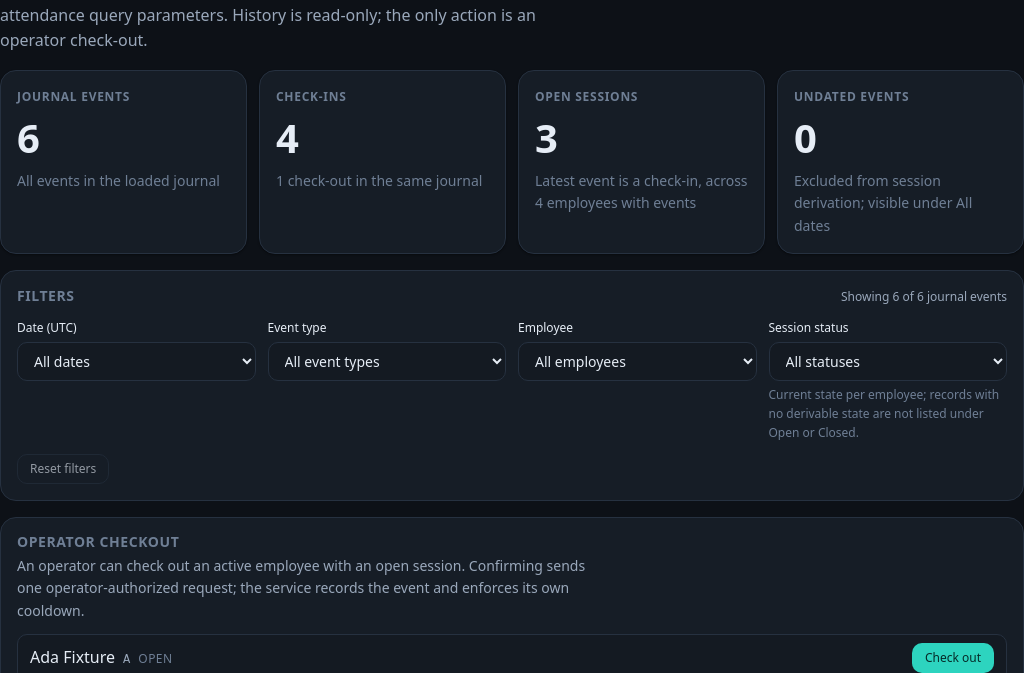
checkout confirmation › confirm sends exactly one bodyless POST without a body content type
The width and height of the screenshot is (1024, 673).
Click the button with aria-label "Check out Ada Fixture".
click(953, 658)  # box [912,643,994,672]
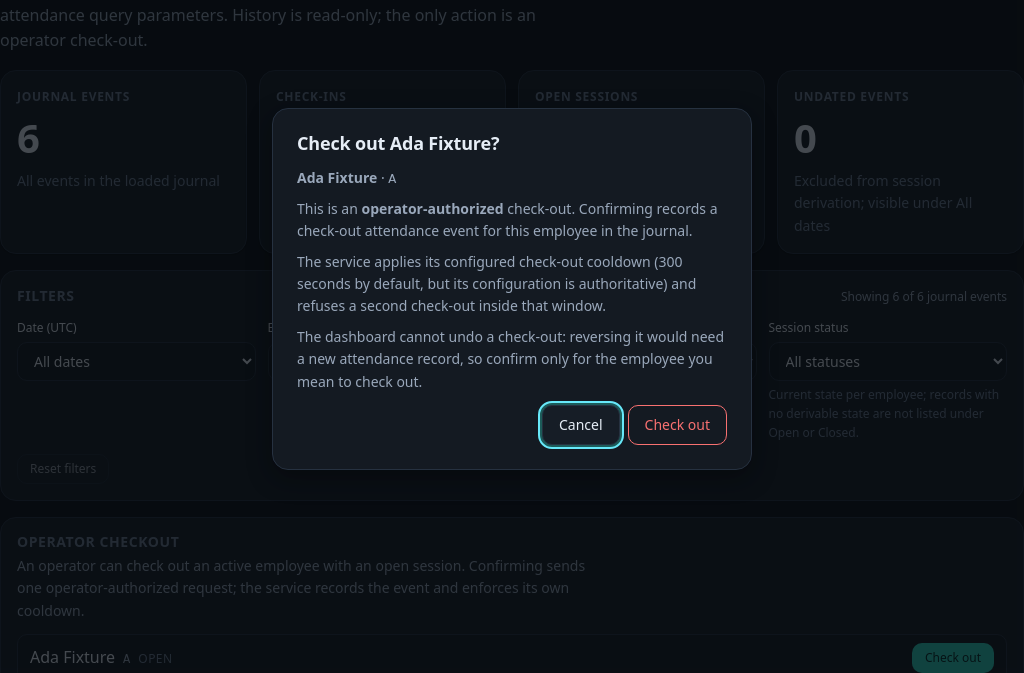
Click the button "Check out".
click(677, 425)  # box [628,405,727,445]
(page scrolled)
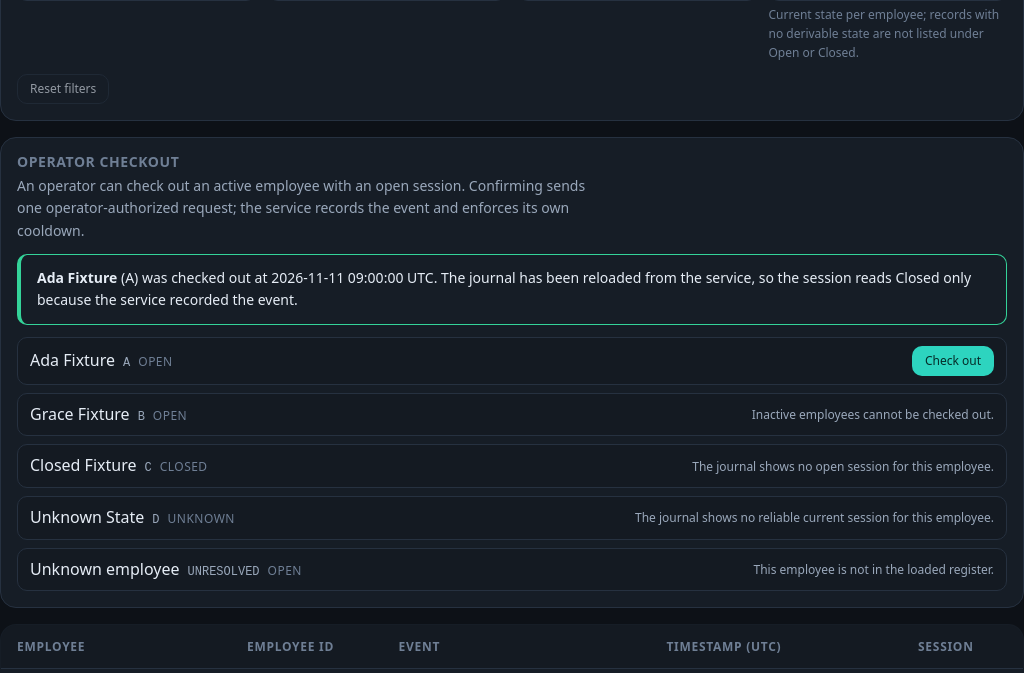
Expected: the text "was checked out at" is shown, [134,268,268,287]
